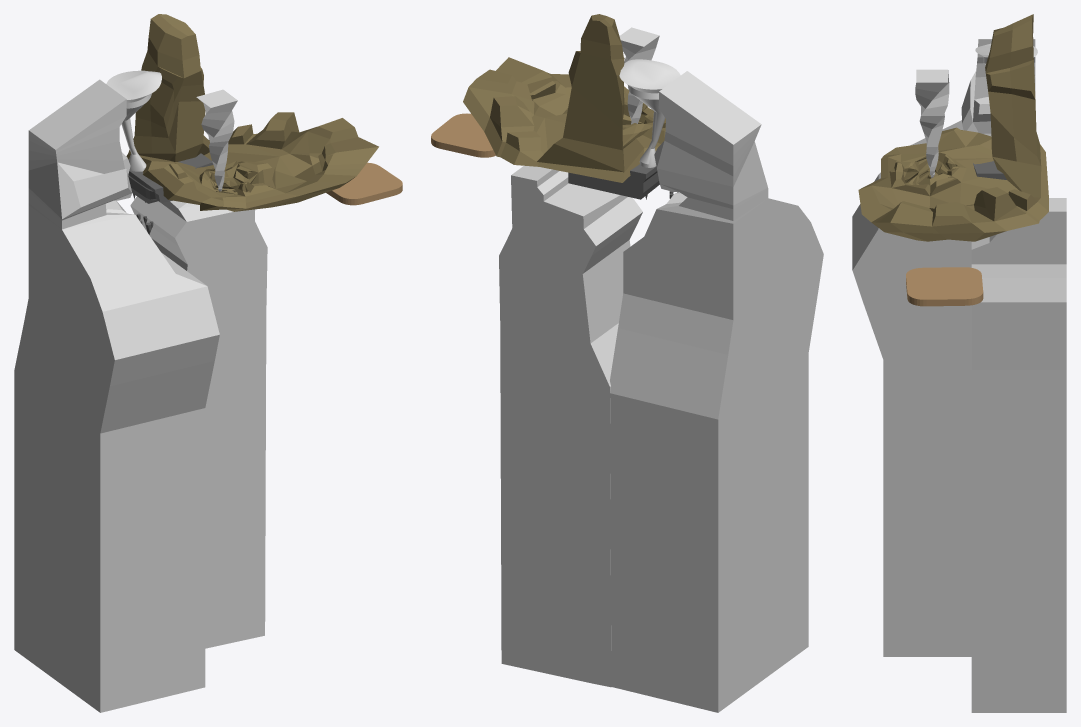
Rendered from unity_04追加.fbx.
3 views of the same model, side by side, from view 1: azimuth 30°, elevation 25°; view 2: azimuth 150°, elevation 25°; view 3: azimuth 270°, elevation 25° (orthographic). The views are drawn at different scales.
Visible parts, largest first — view 1: shanti, 立方体.202, 平面.002, 平面.001, 柱体.007, 立方体.210, 立方体.015; view 2: shanti, 立方体.202, 平面.002, 柱体.007, 立方体.210, 立方体.015, 平面.001; view 3: 立方体.202, shanti, 平面.002, 立方体.210, 平面.001, 立方体.015.
Part boxes in pixels (box(x1,y1,x2,y2)): shanti: box(14, 79, 219, 712); 立方体.202: box(130, 138, 267, 648); 平面.002: box(126, 14, 378, 211); 平面.001: box(196, 89, 237, 191); 柱体.007: box(106, 70, 161, 171); 立方体.210: box(326, 162, 402, 205); 立方体.015: box(128, 153, 213, 203); shanti: box(610, 71, 823, 712); 立方体.202: box(499, 165, 642, 687); 平面.002: box(463, 14, 665, 182); 柱体.007: box(619, 59, 680, 167); 立方体.210: box(431, 113, 495, 157); 立方体.015: box(568, 164, 659, 199); 平面.001: box(619, 27, 659, 124); 立方体.202: box(971, 198, 1066, 712); shanti: box(852, 39, 1035, 656); 平面.002: box(858, 14, 1048, 241); 立方体.210: box(906, 267, 983, 306); 平面.001: box(915, 69, 949, 178); 立方体.015: box(973, 161, 1006, 179).
Bounding box in the file's own units: 399 × 739 × 218.
